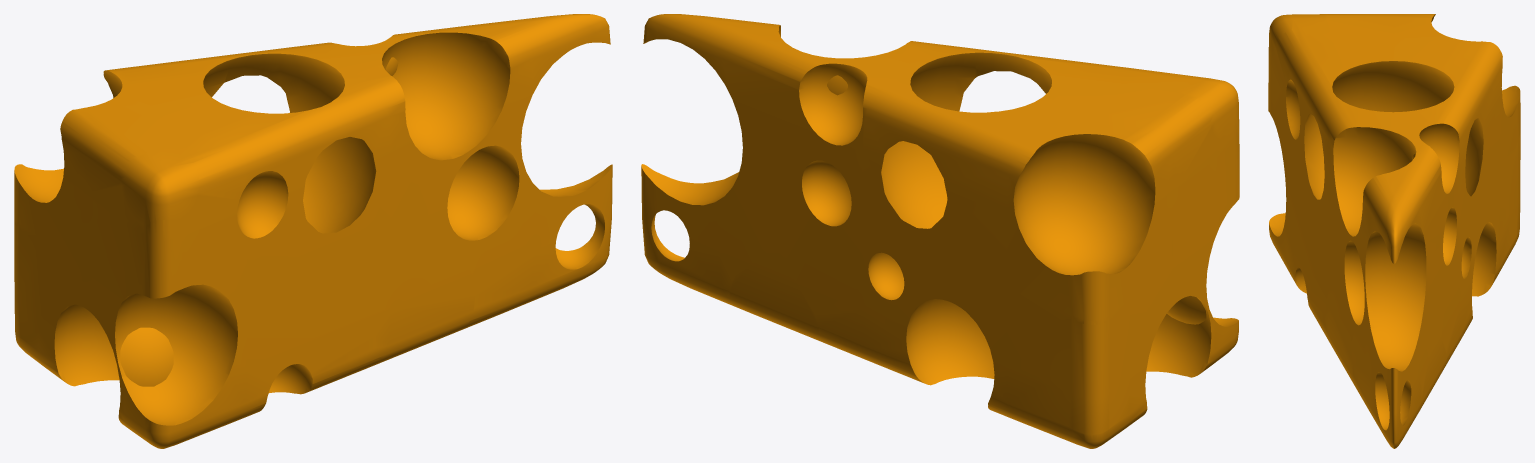
The model's file is cheese.glb.
The picture shows the model from 3 angles, left to right: view 1: azimuth 30°, elevation 25°; view 2: azimuth 150°, elevation 25°; view 3: azimuth 270°, elevation 25°; orthographic projection. The views are drawn at different scales.
Visible parts, largest first — view 1: Cube; view 2: Cube; view 3: Cube.
Part boxes in pixels (x1,y1,x2,y2): Cube: (14, 14, 612, 448); Cube: (641, 14, 1239, 448); Cube: (1268, 14, 1520, 448).
Size of the model in its own units: 3.99 by 2 by 1.92.
